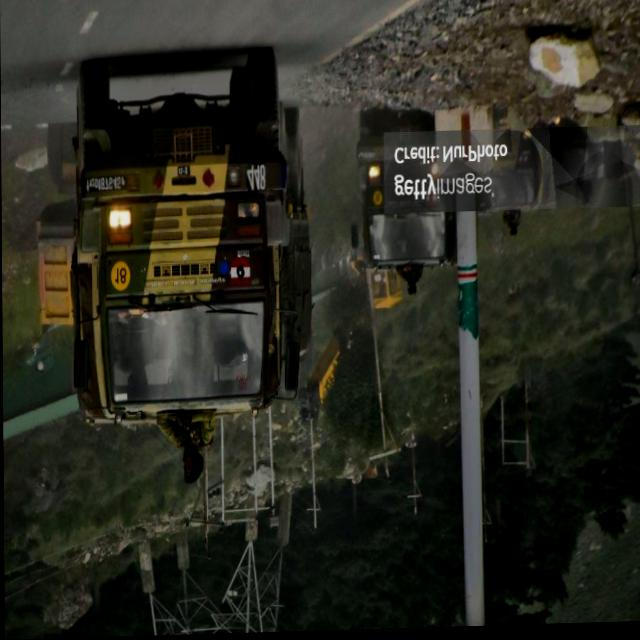1: (98, 178, 100, 191), (89, 180, 91, 188)
2: (92, 180, 95, 187)
3: (247, 166, 254, 191)
4: (254, 166, 261, 190), (113, 178, 117, 189)
5: (117, 177, 121, 189)
6: (109, 177, 113, 190)
7: (105, 179, 108, 190)
8: (260, 167, 265, 190), (100, 179, 105, 190)
d: (95, 179, 98, 188)
p: (122, 177, 125, 186)
